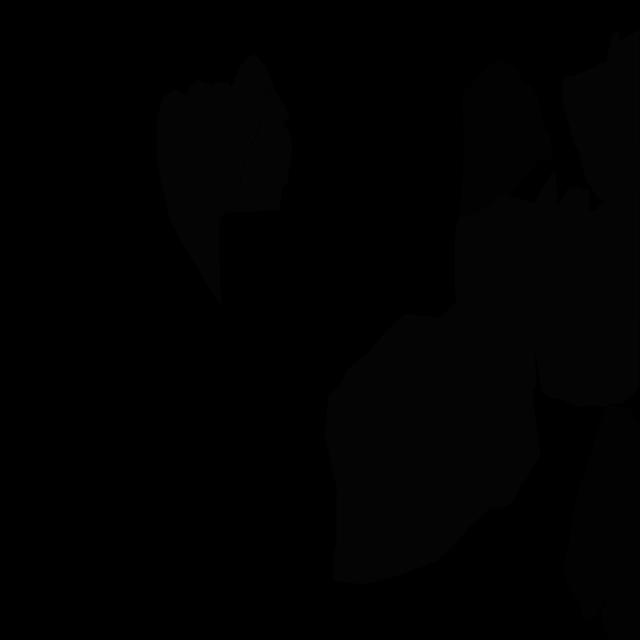cardboard: (562, 405, 640, 623), (459, 58, 552, 218), (600, 587, 640, 640)
soft_plastic: (324, 172, 640, 585), (156, 54, 291, 305), (562, 29, 640, 201), (238, 90, 292, 212)
